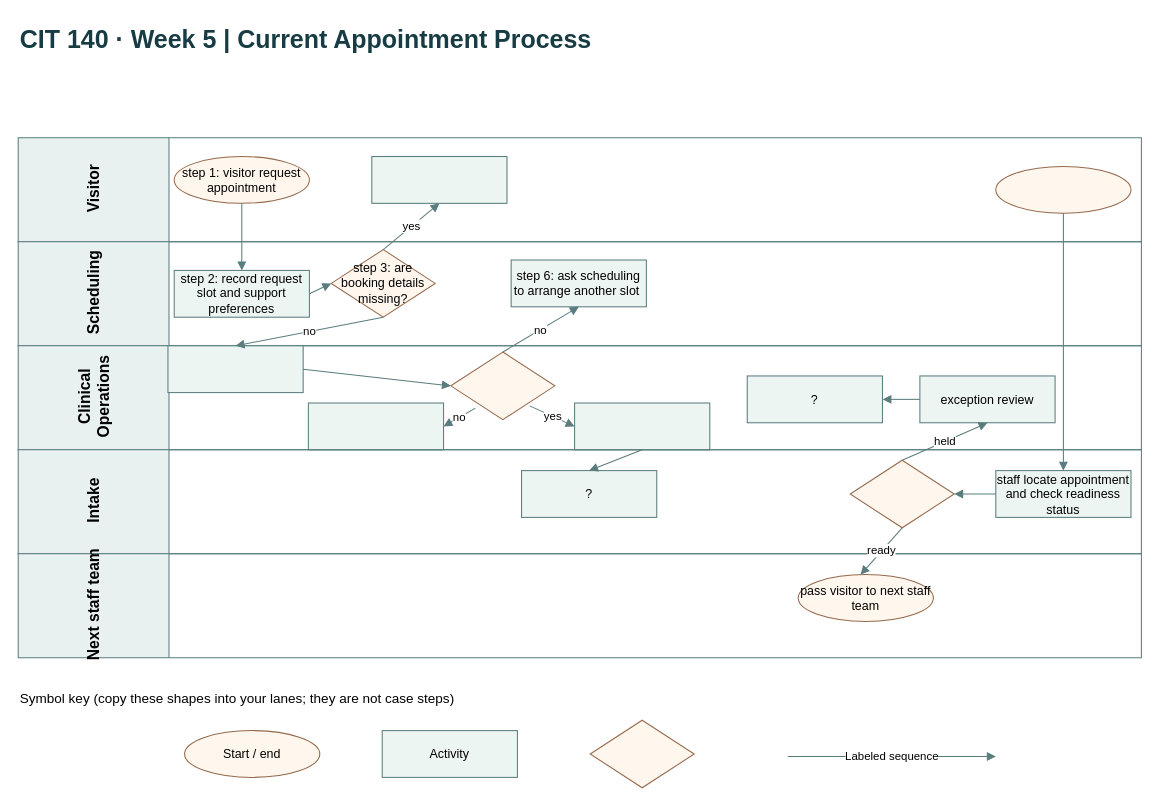
This 1160x806 diagram has some shape labels left out. The shapes that lost their labels are listed below. From the top down, each one's centre as x and y in pixels, then its label:
the point at 439,179: contact visitor and review request
the point at 1063,189: visitor arrives after receiving booking confirmation
the point at 235,369: step 4: request clinical readiness record
the point at 502,385: step 5: are room and qualified clinician available?
the point at 375,426: step 6: appointment stays held while capacity is being reviewed
the point at 642,426: step 6: record readiness
the point at 901,493: is appointment ready or held?
the point at 641,753: Decision?
